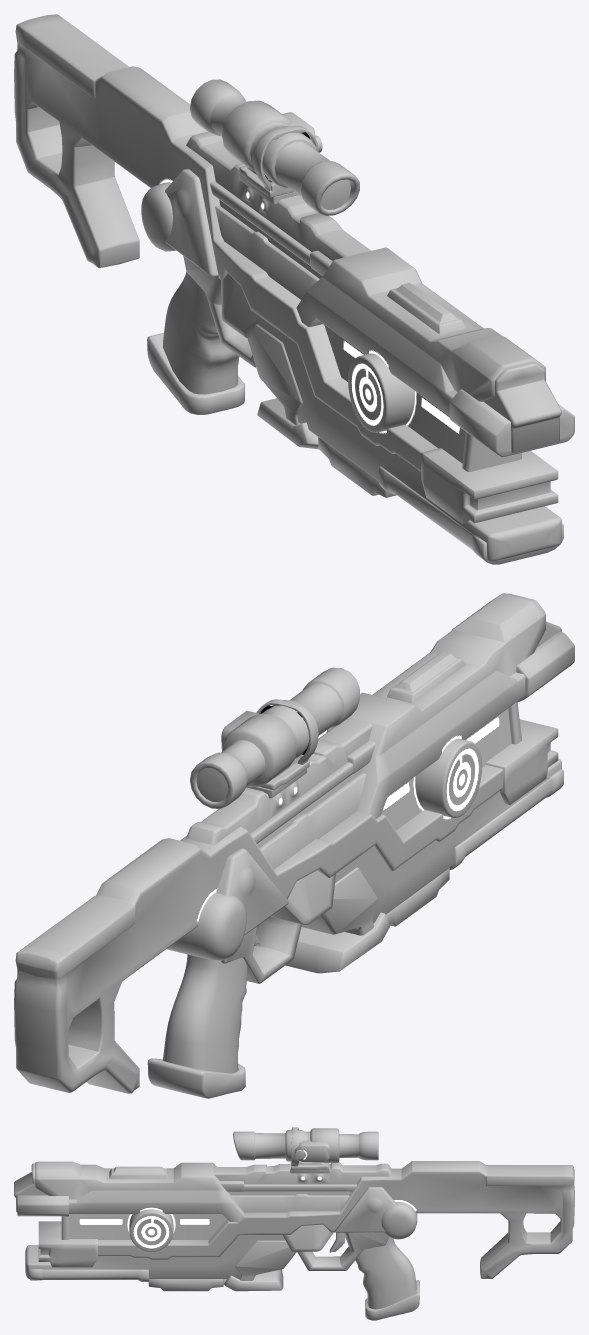
File: SciFiRifle01_2.FBX
The picture shows the model from 3 angles, top to bottom: view 1: azimuth 30°, elevation 25°; view 2: azimuth 150°, elevation 25°; view 3: azimuth 270°, elevation 25°; orthographic projection. The views are drawn at different scales.
Parts seen in each view (by area): view 1: SciFiRifle01_2, Scope2, Scope1, Extruder, Clip; view 2: SciFiRifle01_2, Scope2, Extruder, Scope1, Clip; view 3: SciFiRifle01_2, Scope2, Extruder, Clip, Scope1.
Part boxes in pixels (x1,y1,x2,y2): SciFiRifle01_2: (14,14,574,564); Scope2: (190,79,359,215); Scope1: (239,125,318,203); Extruder: (257,398,318,449); Clip: (318,437,396,497); SciFiRifle01_2: (14,593,574,1098); Scope2: (190,667,359,808); Extruder: (285,912,390,973); Scope1: (256,699,318,796); Clip: (386,868,449,926); SciFiRifle01_2: (14,1161,574,1320); Scope2: (233,1128,378,1173); Extruder: (223,1269,283,1291); Clip: (148,1279,223,1291); Scope1: (291,1127,328,1173).
Size of what is drawn, in the model's own units: 0.1069 by 0.3483 by 0.9651.
